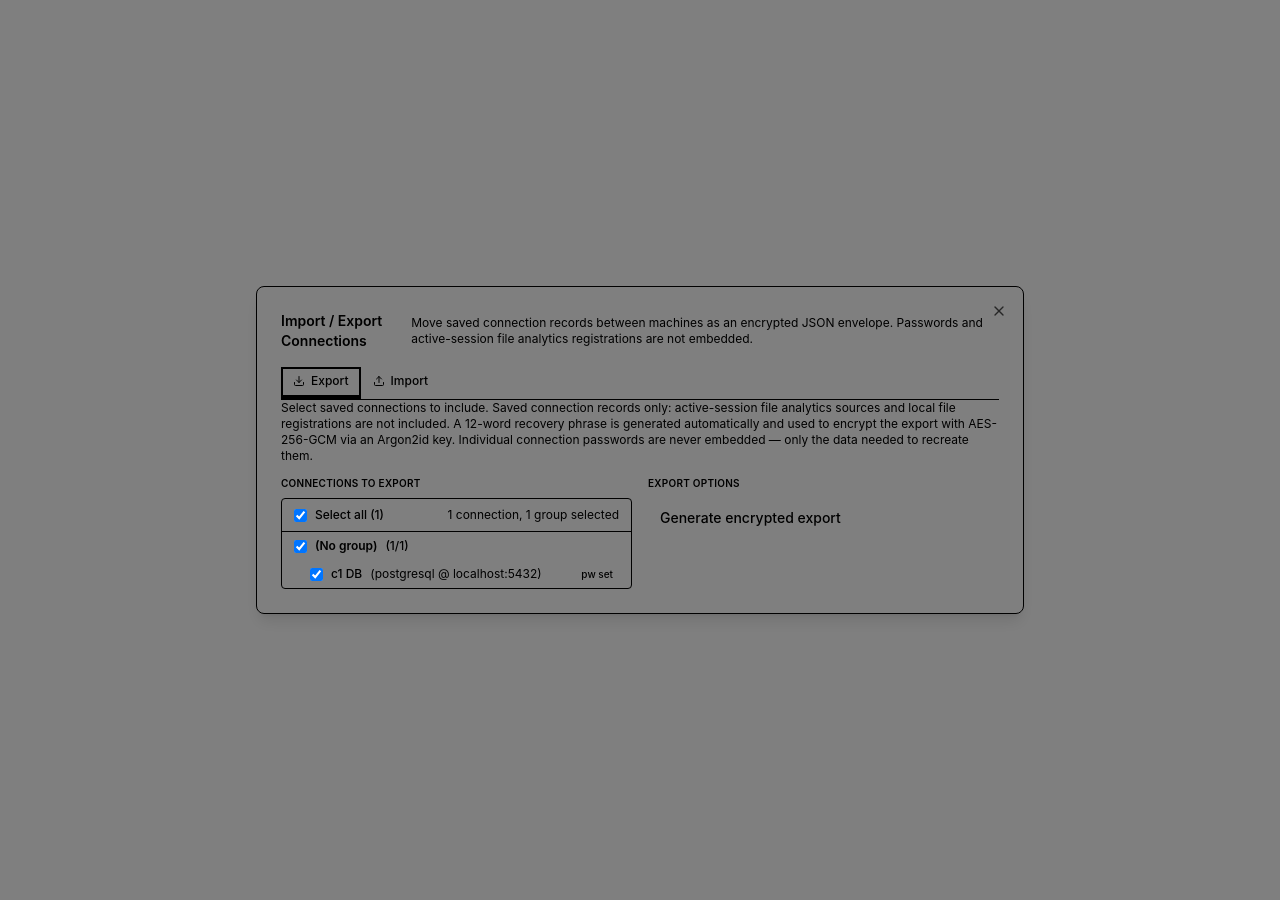
ImportExportDialog critical accessibility smoke › exposes export selection controls and empty-selection status
The image size is (1280, 900).
Expected: the button "Generate encrypted export" is enabled, [648,502,853,534]
Click the checkbox labelled "Select all (1)" at (300, 515), box [294,508,307,522]
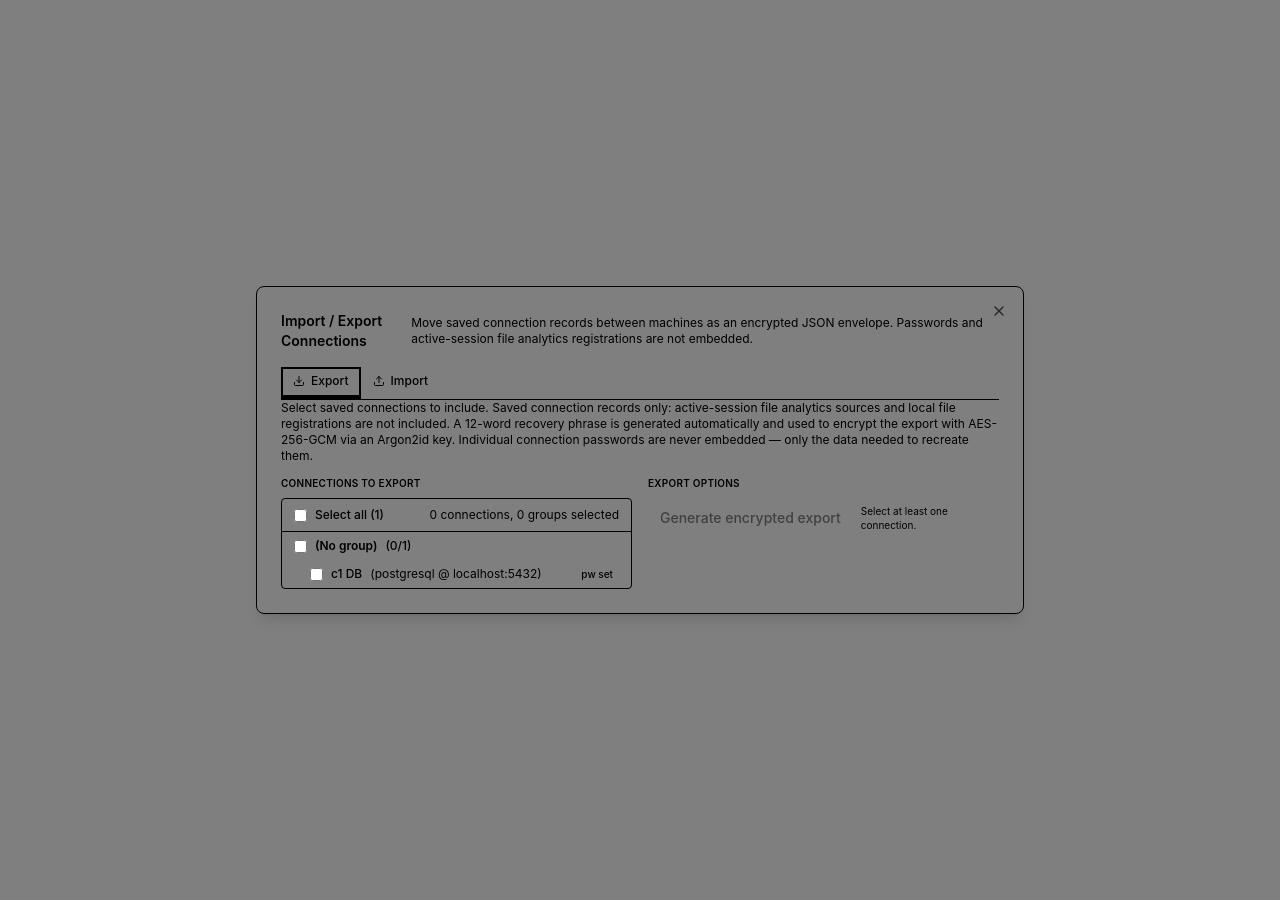
Expected: the message reads "Select at least one connection.", [861,505,948,531]
Expected: the button "Generate encrypted export" is disabled, [648,502,853,534]
